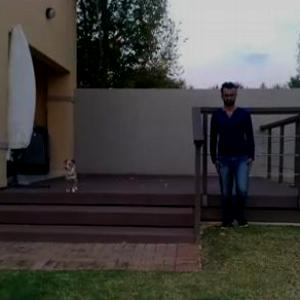follow: (210, 79, 258, 230)
